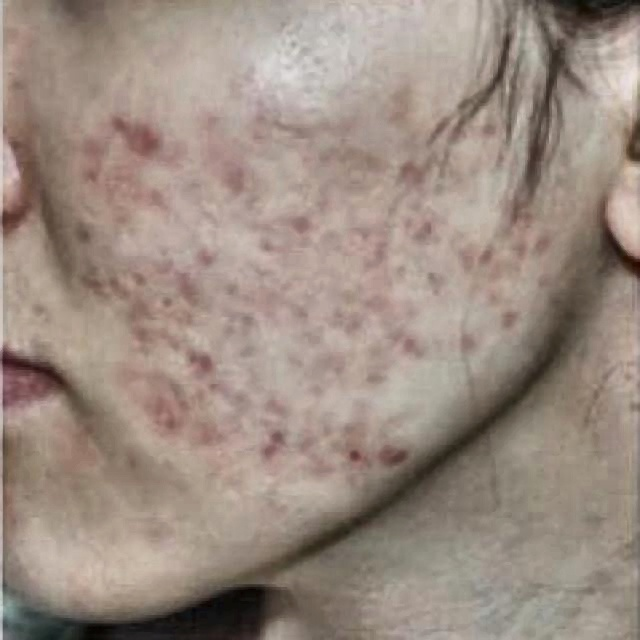comedone: (252, 420, 287, 463), (183, 341, 218, 382), (400, 217, 439, 253), (74, 157, 114, 192), (98, 267, 131, 309), (379, 437, 414, 474), (390, 156, 426, 188), (529, 225, 557, 264), (472, 109, 500, 146), (317, 350, 348, 382), (281, 209, 312, 239), (191, 240, 221, 268), (494, 303, 521, 333), (150, 413, 182, 438), (342, 440, 370, 468), (142, 127, 163, 164), (394, 332, 427, 353), (507, 227, 525, 264), (105, 117, 136, 138), (484, 238, 500, 263)
